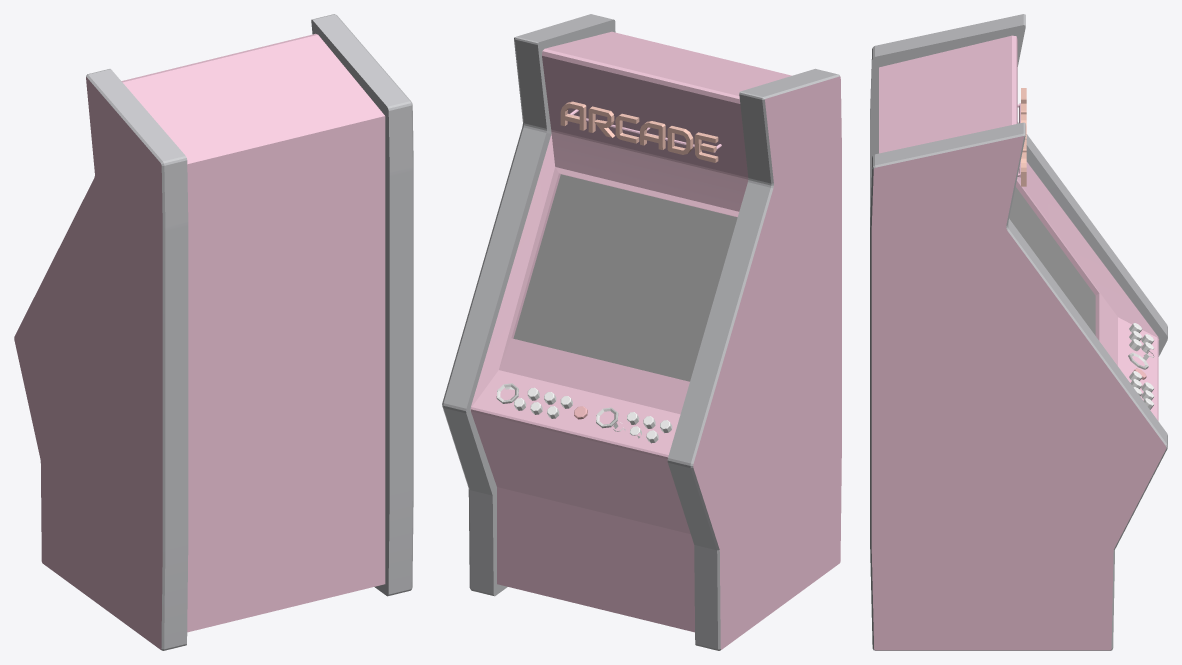
File: arcadex.fbx
3 renders of one model, left to right at view 1: azimuth 30°, elevation 25°; view 2: azimuth 150°, elevation 25°; view 3: azimuth 270°, elevation 25°, orthographic.
Visible parts, largest first — view 1: Arcade; view 2: Arcade; view 3: Arcade.
Boxes of the visible parts, x1,y1,x2,y2 form: Arcade: (14,14,413,650); Arcade: (442,14,841,650); Arcade: (870,14,1167,650).
Size of the model in its own units: 219 by 435 by 227.
